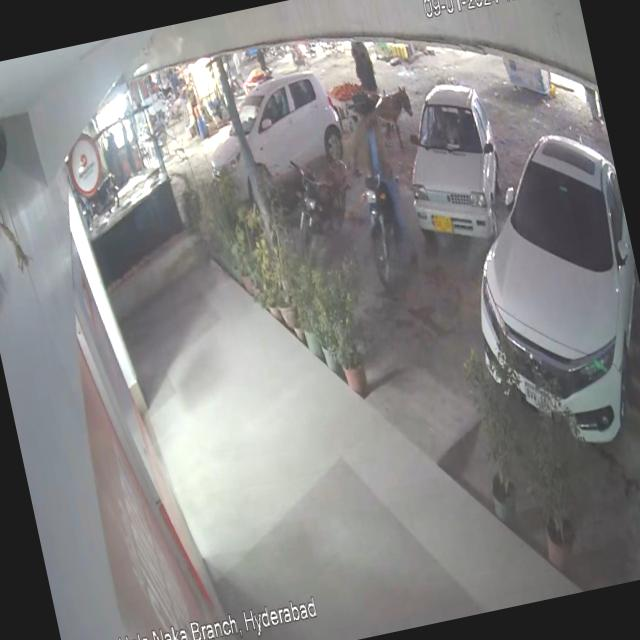Car: (430, 79, 640, 475), (388, 54, 522, 275), (173, 52, 353, 199)
Motorcycle: (282, 138, 364, 254), (354, 171, 420, 277)
